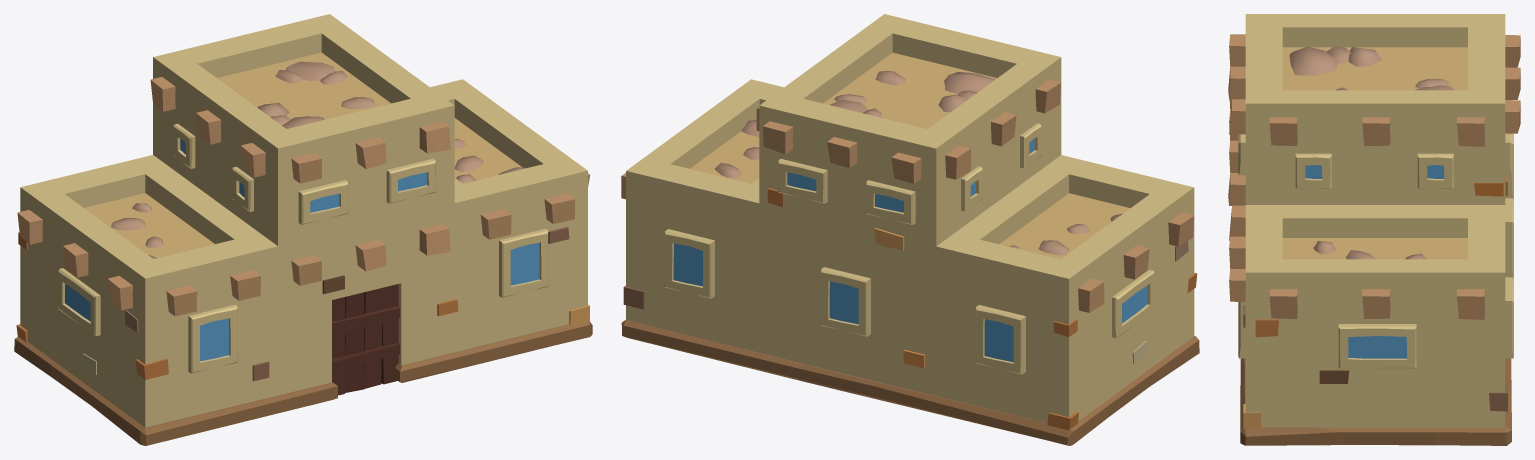
Rendered from House_E.fbx.
3 views of the same model, side by side, from view 1: azimuth 30°, elevation 25°; view 2: azimuth 150°, elevation 25°; view 3: azimuth 270°, elevation 25° (orthographic). The views are drawn at different scales.
Parts seen in each view (by area): view 1: House_E; view 2: House_E; view 3: House_E.
Boxes of the visible parts, x1=… form: House_E: x1=14, y1=14, x2=592, y2=445; House_E: x1=621, y1=14, x2=1199, y2=445; House_E: x1=1228, y1=14, x2=1520, y2=445.
Size of the model in its own units: 1149 by 617 by 596.
